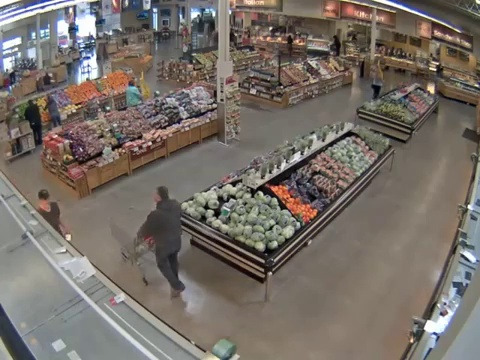face: (39, 195, 50, 206)
